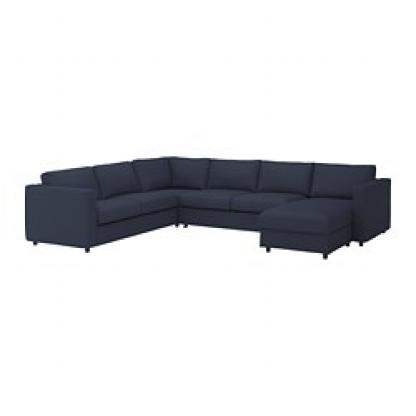Sofa: (18, 152, 393, 262)
